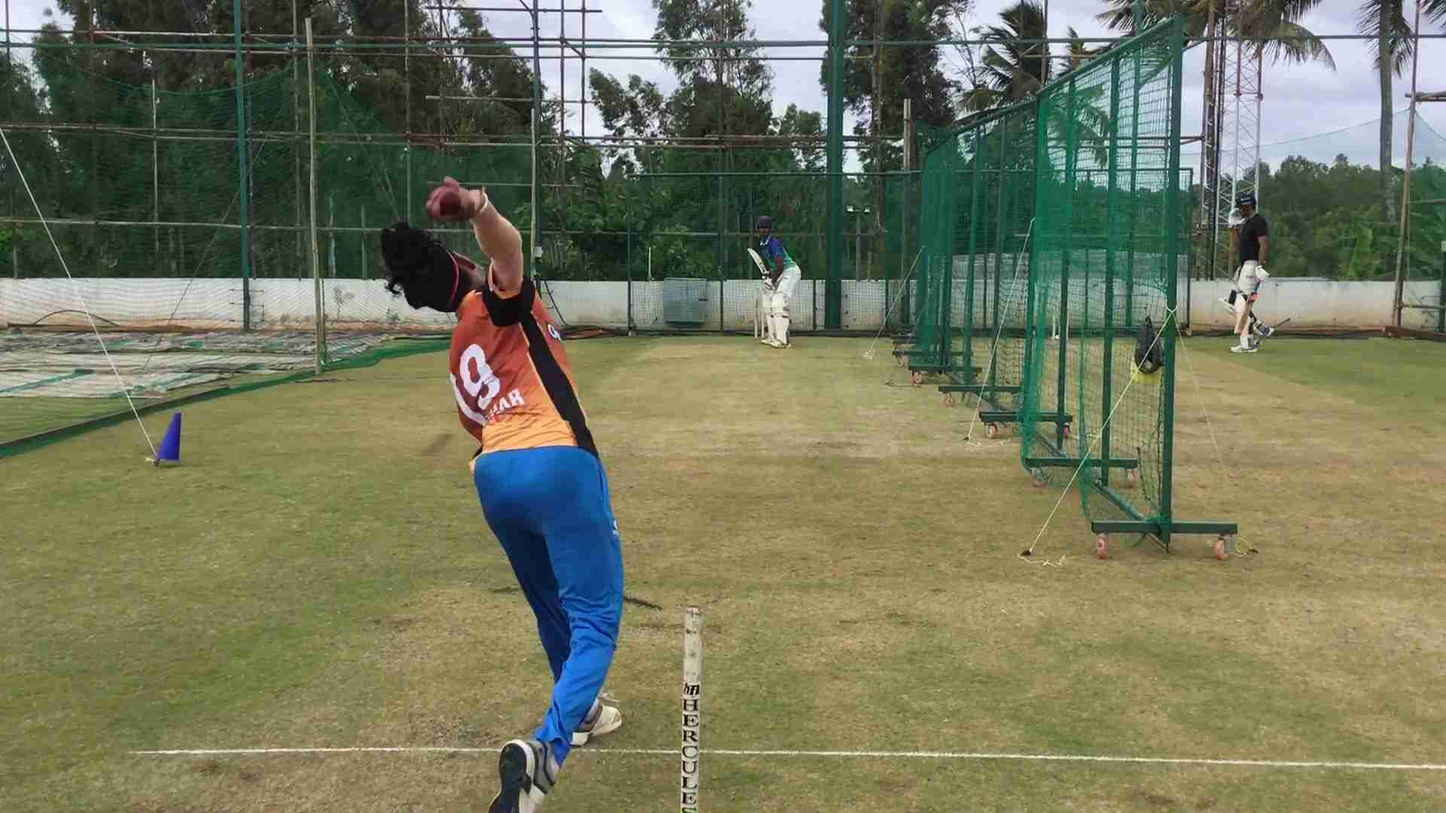batsman: (750, 205, 805, 349)
